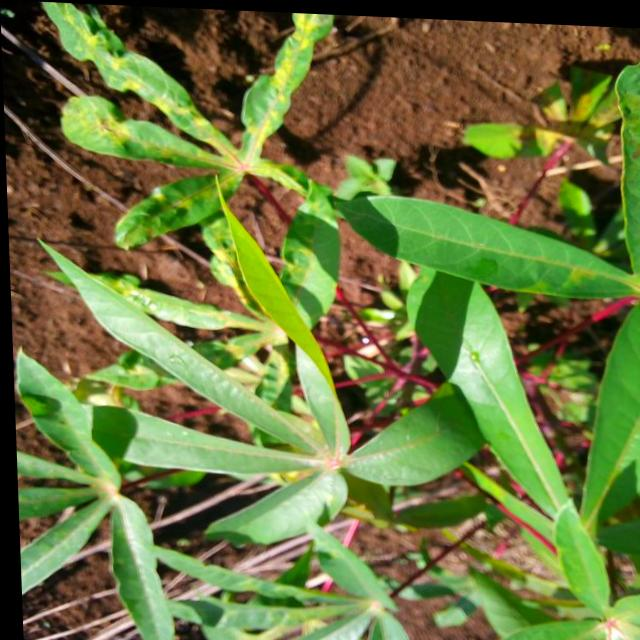Mosaico: (92, 207, 400, 404), (79, 0, 319, 211)
